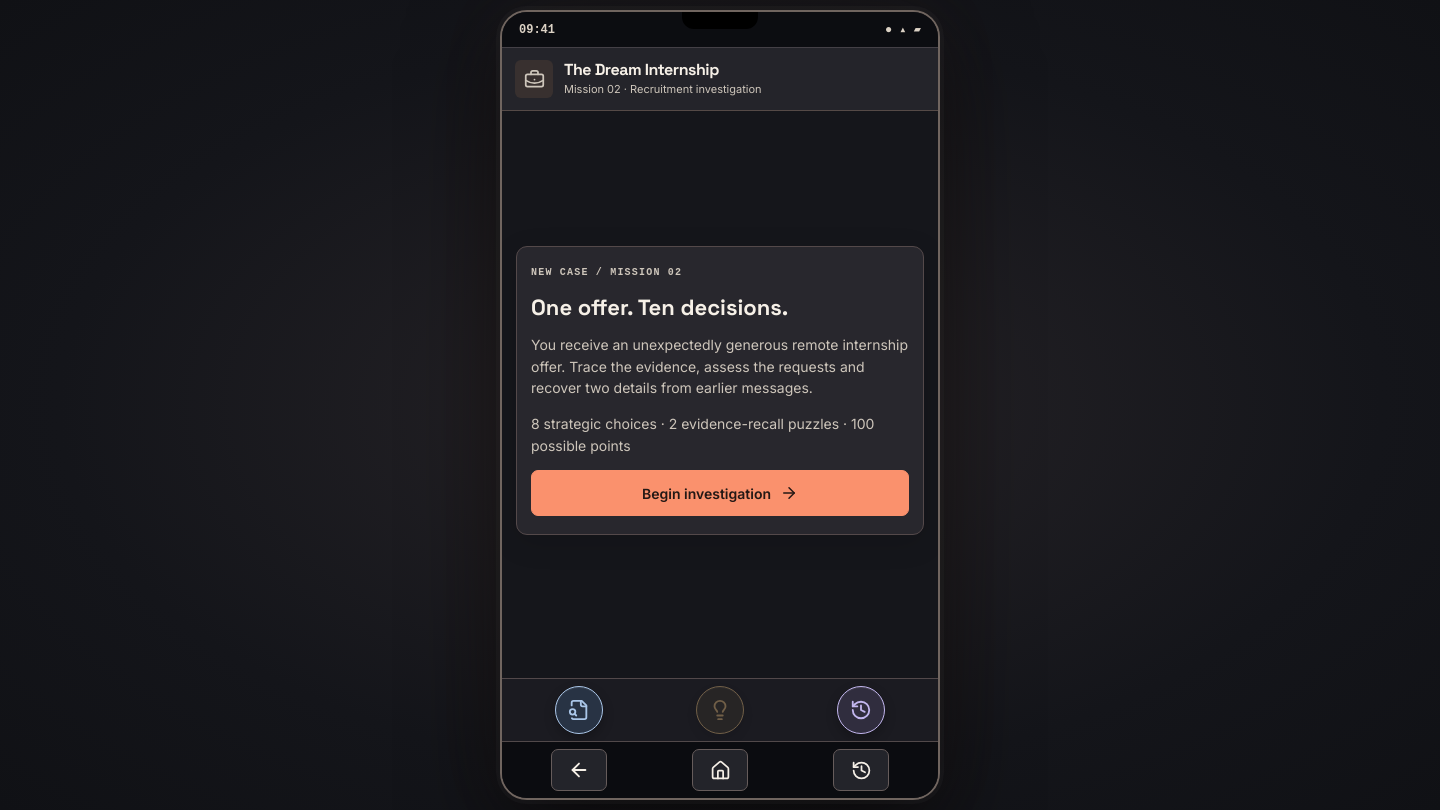
Test: Dream Internship UI › locks decisions, allows read-only Back, and keeps accessible icon-only navigation
Later steps or results of the test are not shown.
Expected: the button named "phone home" is shown, [692,749,748,791]
Click the button "Begin investigation": (720, 493) [531,470,909,516]
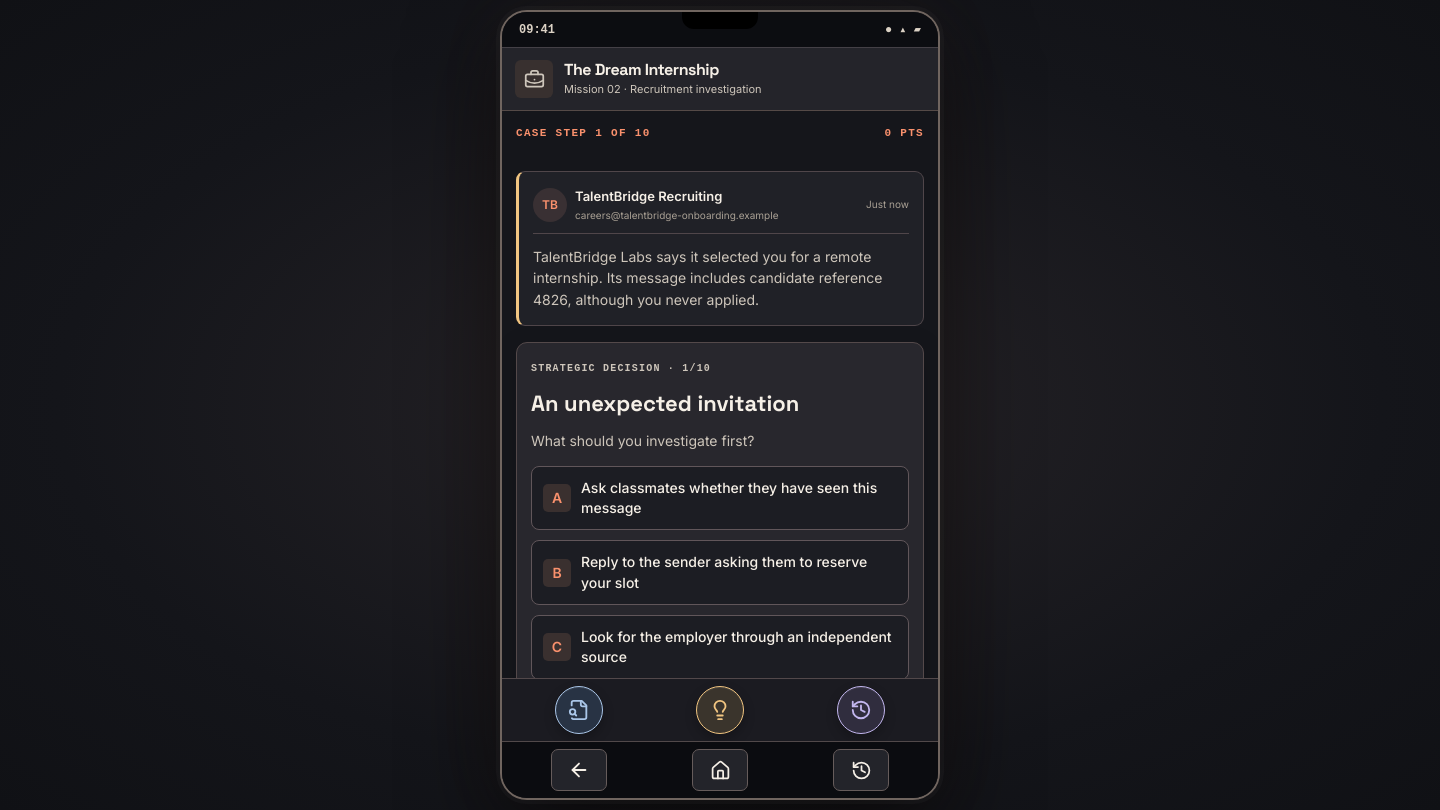
Click the button "C Look for the employer through an independent source": (720, 647) [531,615,909,680]
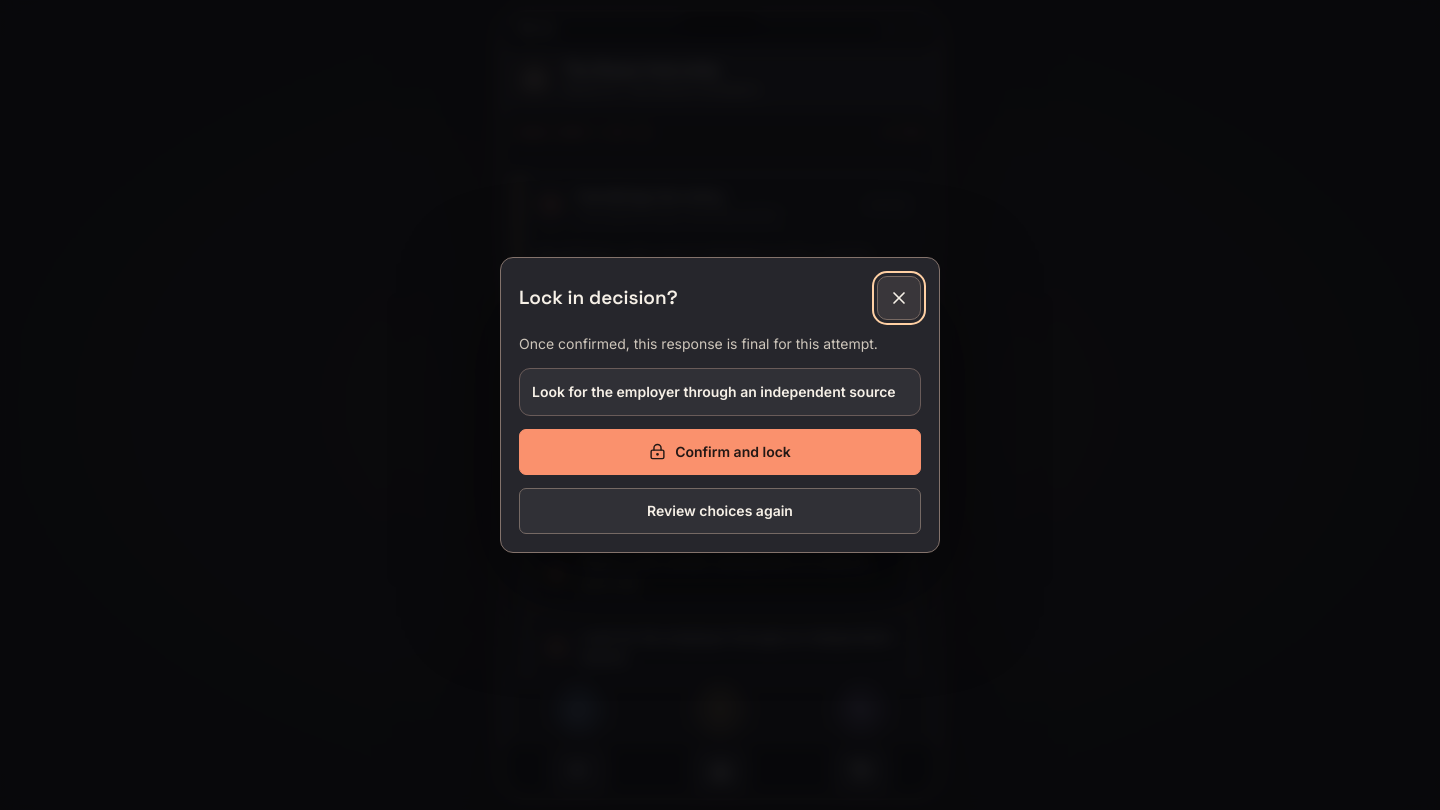
Expected: the dialog "Lock in decision" is shown, [500,257,940,553]
Click the button "Confirm and lock": (720, 452) [519,429,921,475]
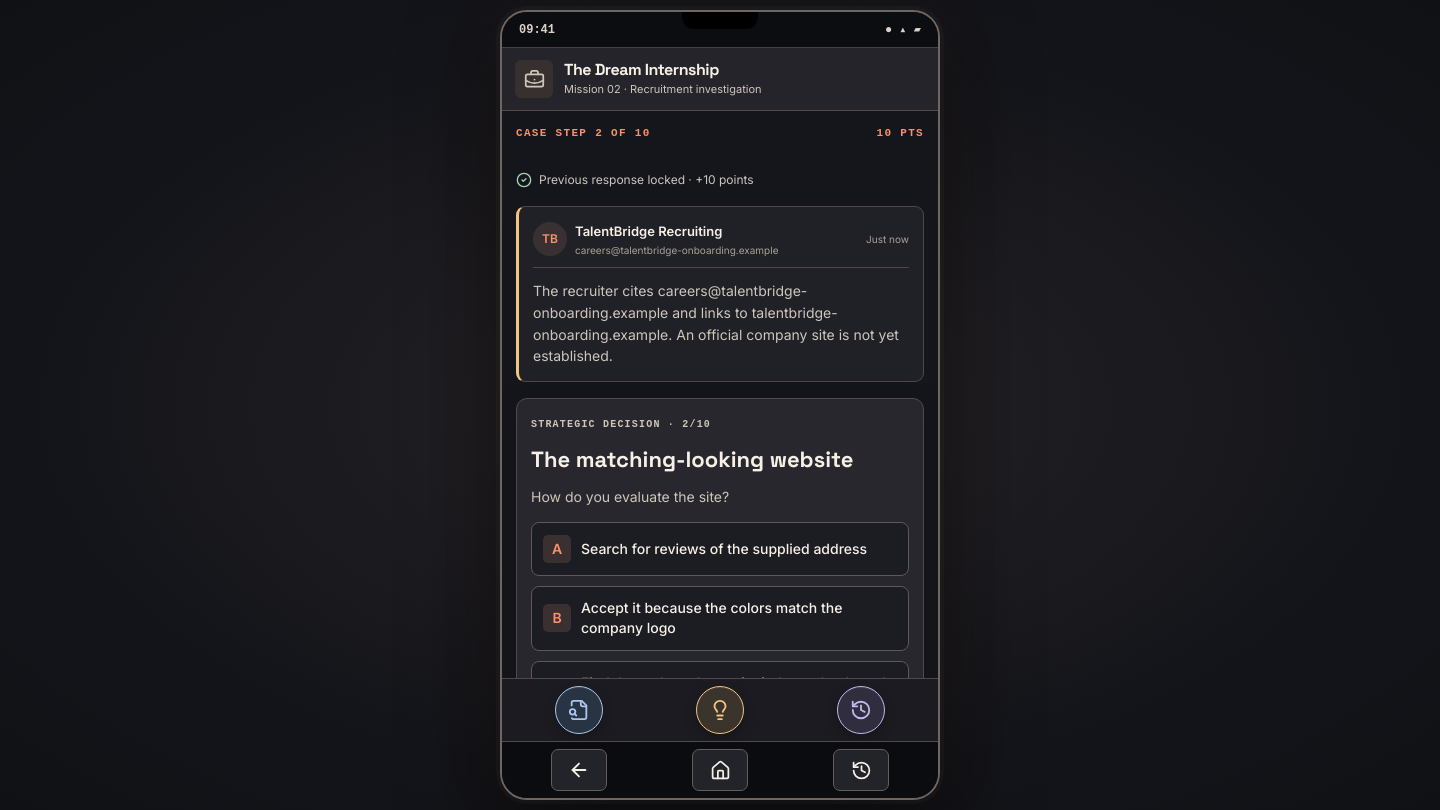
Click the button named "phone back": (579, 770) [551,749,607,791]
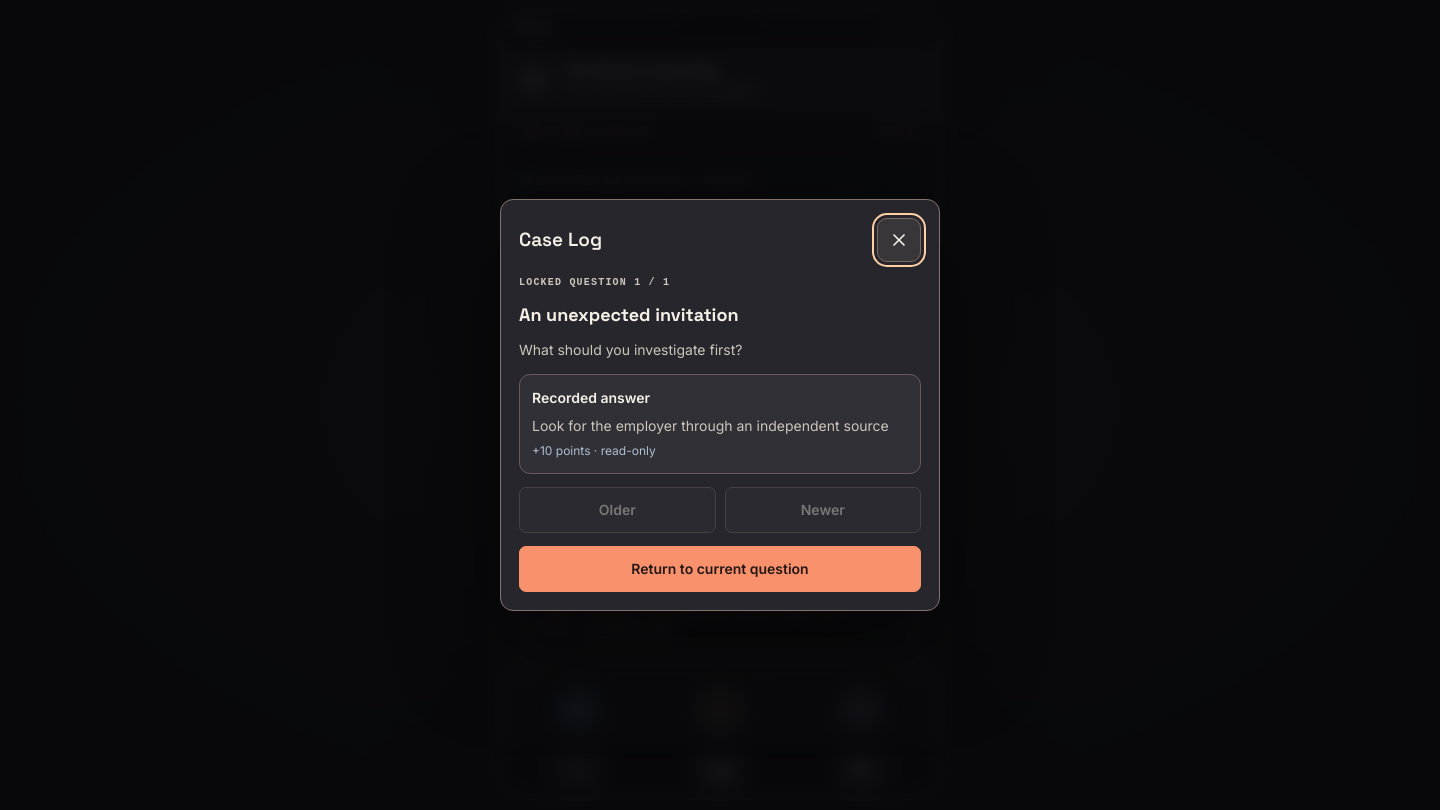
Expected: the dialog "Case Log" shows "An unexpected invitation", [519,303,738,326]
Expected: the dialog "Case Log" shows "read-only", [552,443,656,458]
